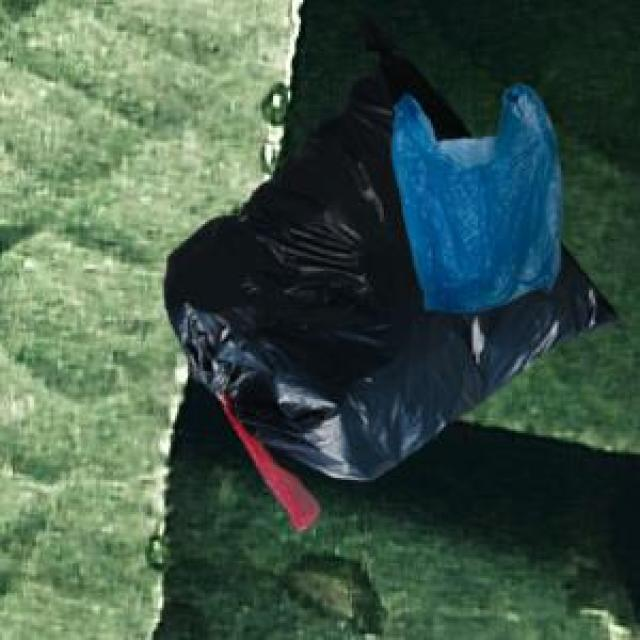miscellaneous trash: (160, 13, 617, 527), (388, 79, 557, 307)
